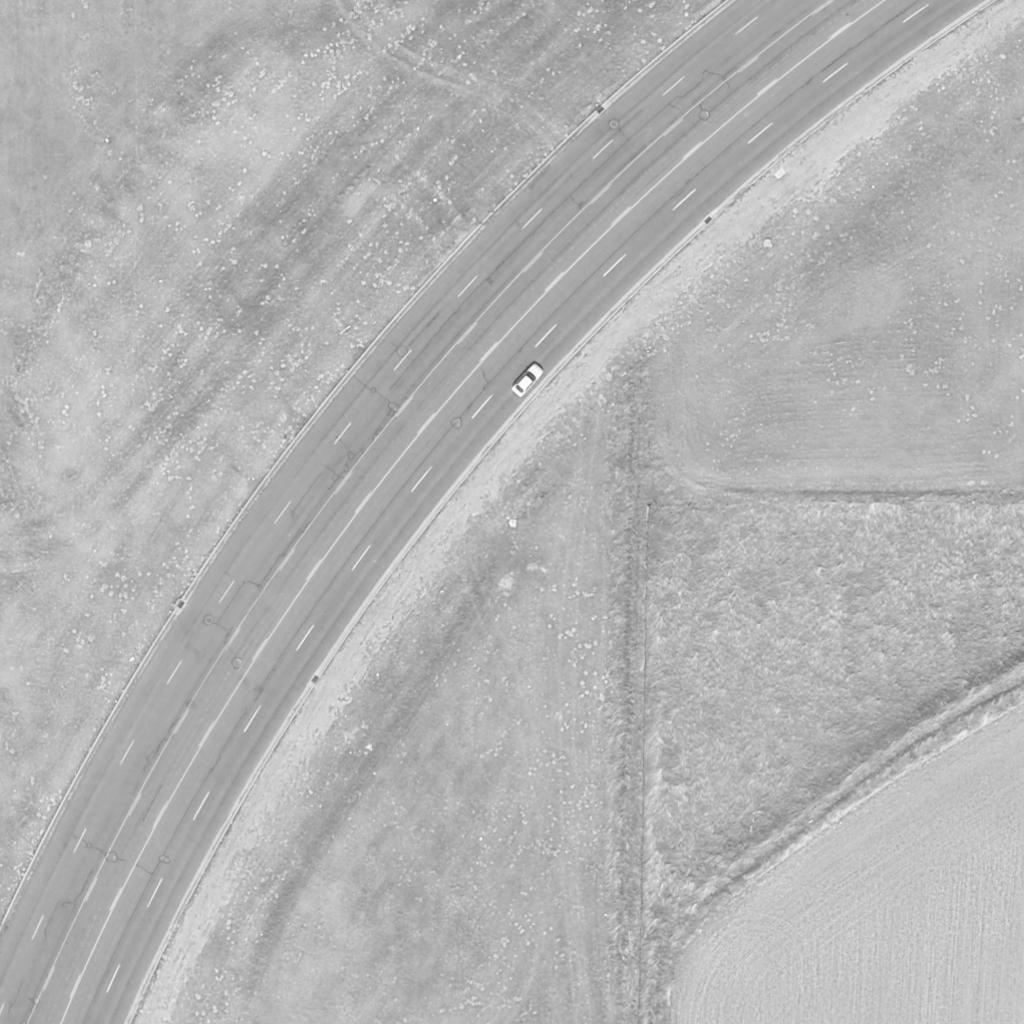vehicle: (511, 363, 545, 399)
